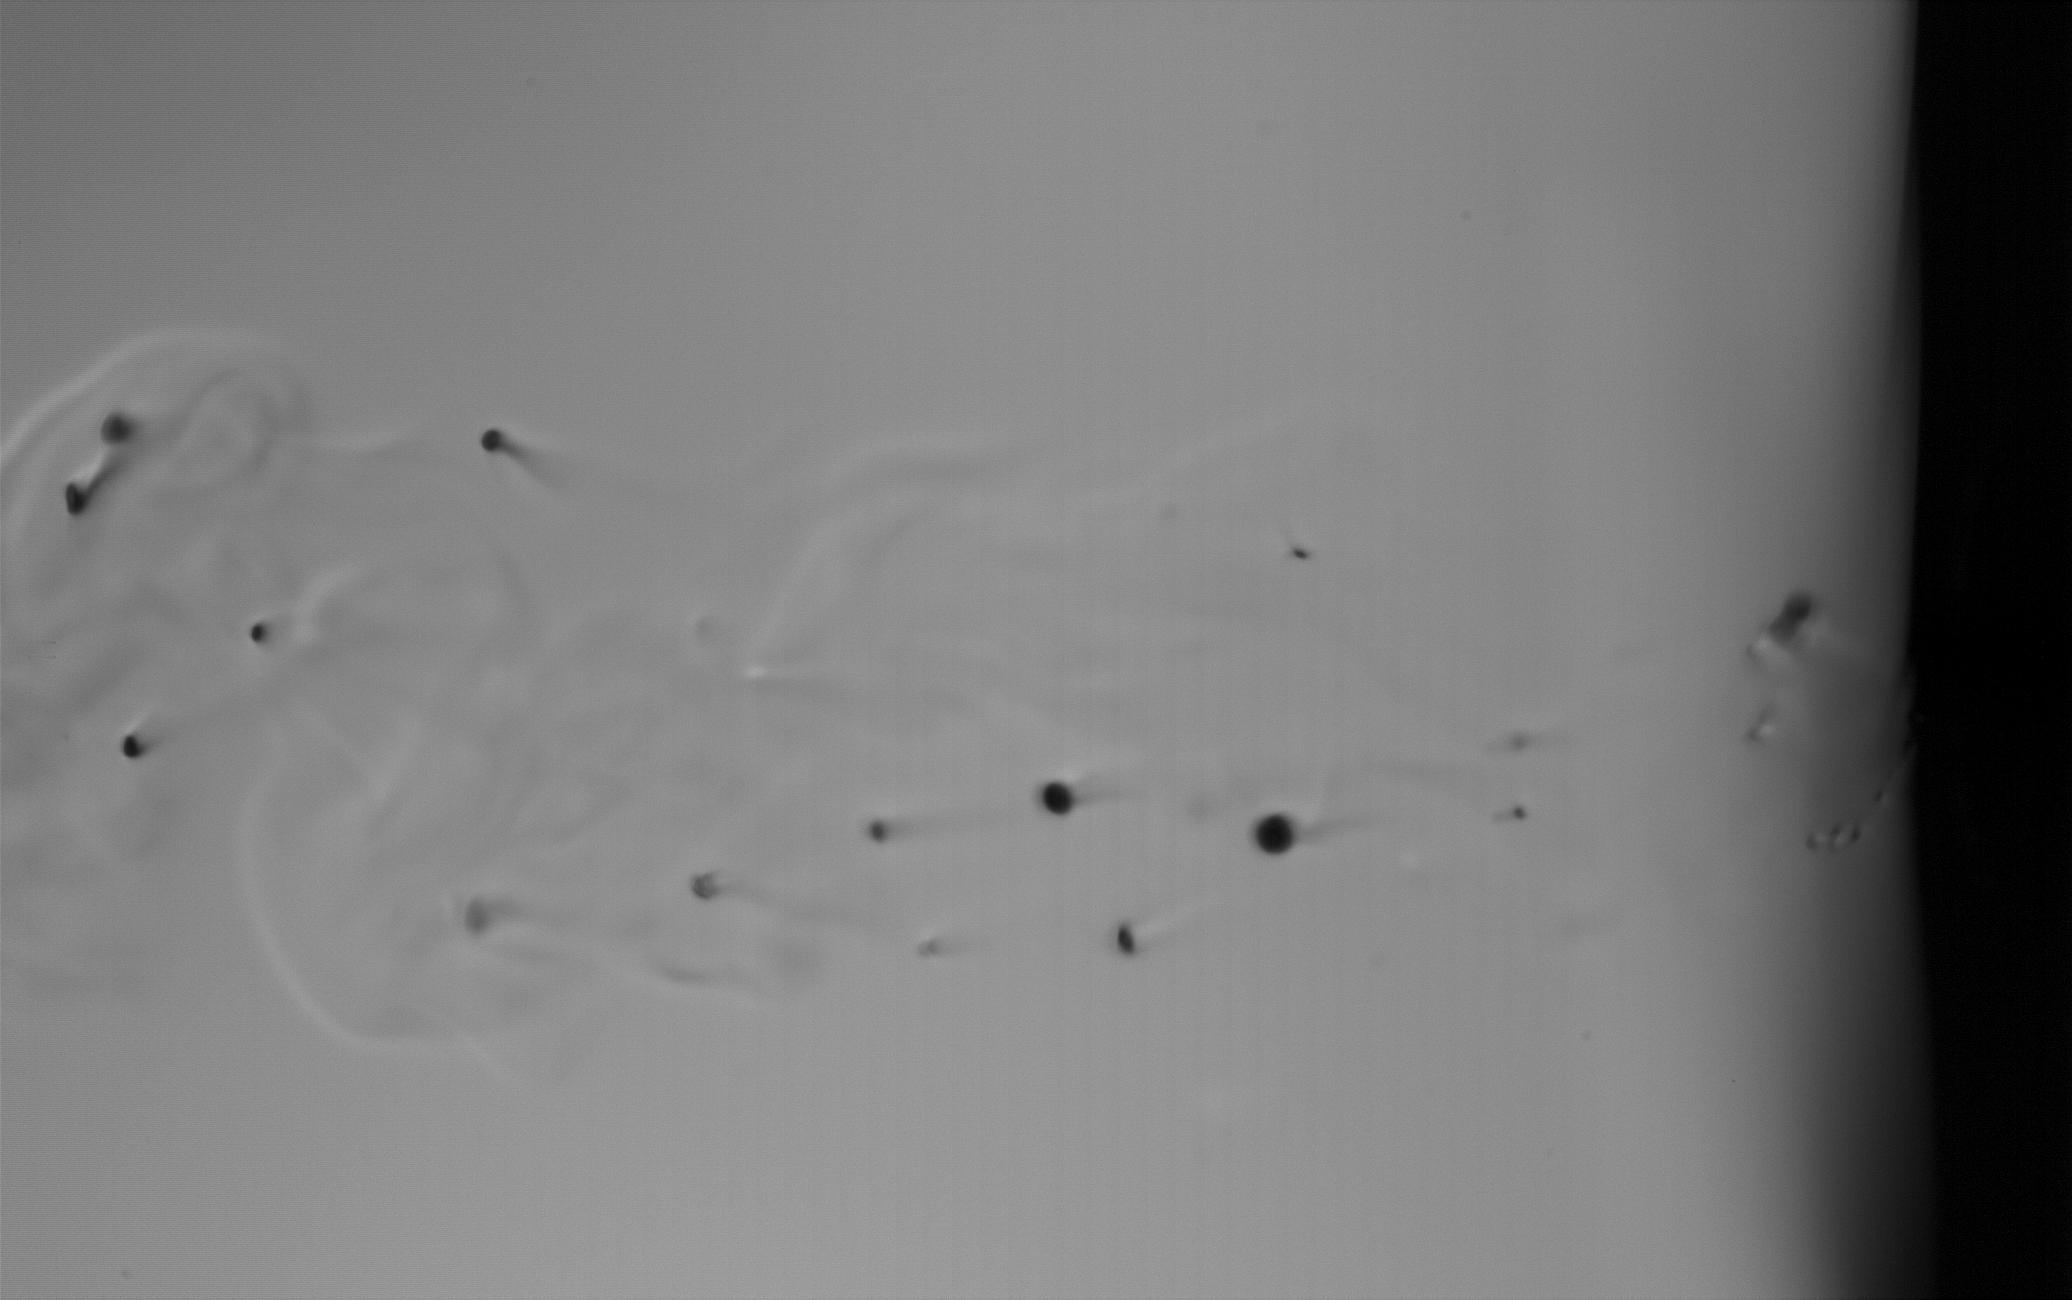Blurry: (1762, 577, 1820, 654), (1820, 801, 1880, 860), (455, 897, 508, 935), (1744, 702, 1779, 759), (96, 404, 139, 448), (909, 926, 945, 962), (686, 866, 722, 902), (1494, 726, 1539, 755), (1491, 803, 1526, 830)
ClassicalEvaporation: (1249, 807, 1299, 863), (1037, 777, 1075, 821), (478, 421, 515, 458), (118, 726, 150, 761), (247, 619, 274, 649)
TransitionalMixing: (67, 464, 112, 529), (1112, 917, 1141, 959), (870, 813, 892, 848), (1291, 547, 1308, 560)
